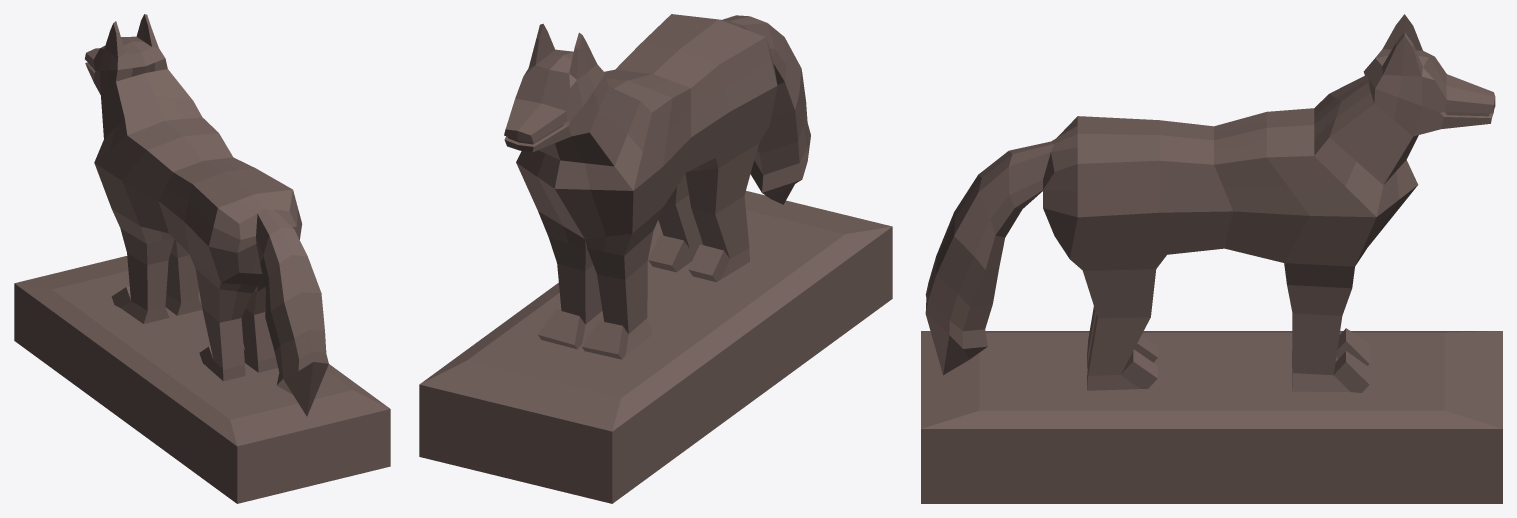
The model's file is ART5.fbx.
3 views of the same model, side by side, from view 1: azimuth 30°, elevation 25°; view 2: azimuth 150°, elevation 25°; view 3: azimuth 270°, elevation 25° (orthographic). The views are drawn at different scales.
Visible parts, largest first — view 1: ลูกบาศก์, Cube; view 2: Cube, ลูกบาศก์; view 3: Cube, ลูกบาศก์.
Part boxes in pixels (x1,y1,x2,y2): ลูกบาศก์: (85, 14, 328, 416); Cube: (14, 256, 390, 503); Cube: (419, 191, 892, 503); ลูกบาศก์: (504, 14, 810, 359); Cube: (921, 331, 1502, 503); ลูกบาศก์: (925, 14, 1495, 392).
Bounding box in the file's own units: 169 × 349 × 425.
